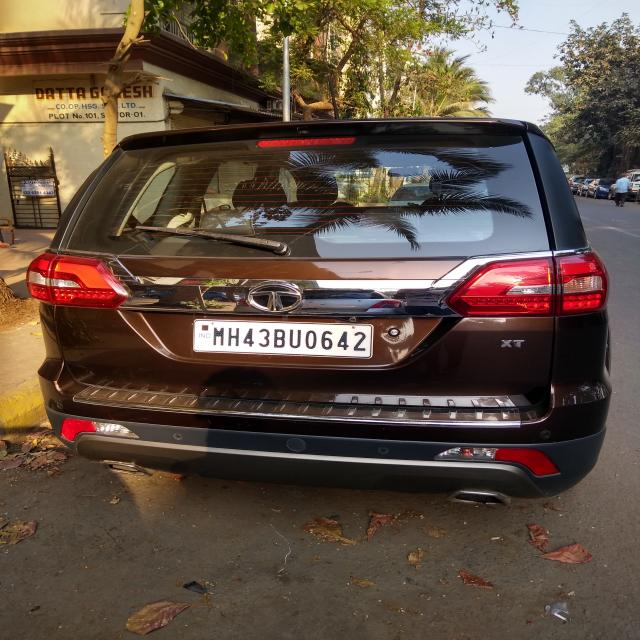Number-Plate: (200, 322, 373, 353)
